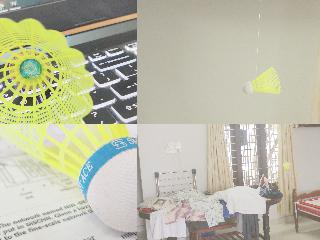shuttlecock: (0, 124, 136, 232), (0, 17, 93, 123), (242, 66, 280, 94), (282, 162, 290, 172)
